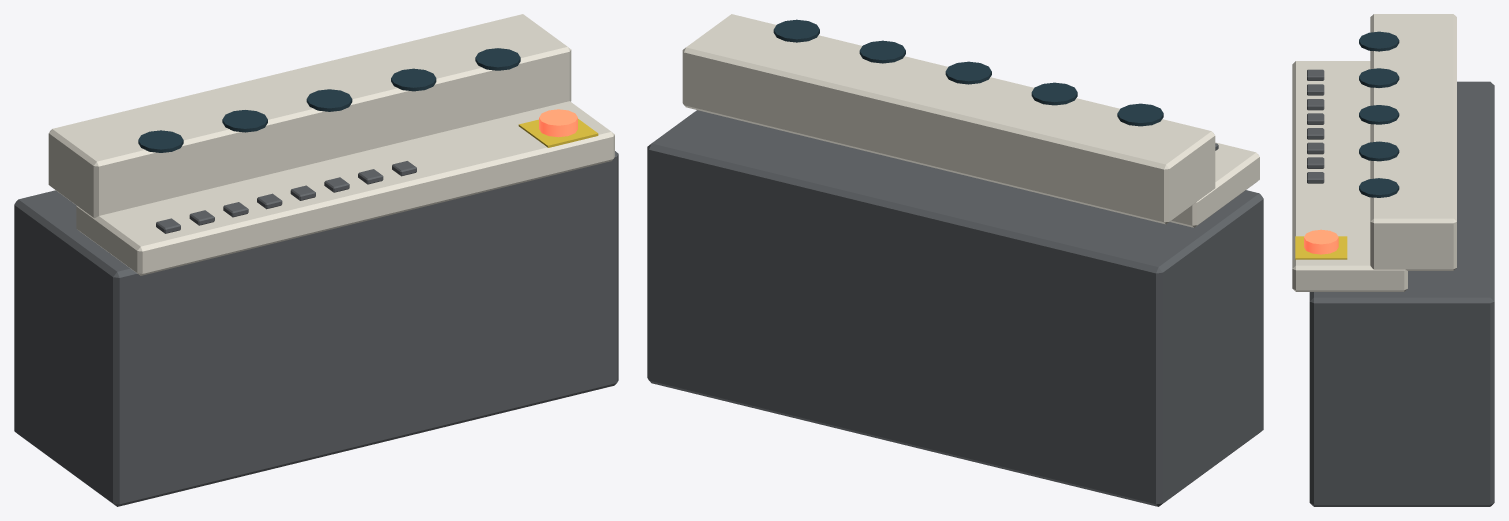
File: control_desk.glb
The picture shows the model from 3 angles, left to right: view 1: azimuth 30°, elevation 25°; view 2: azimuth 150°, elevation 25°; view 3: azimuth 270°, elevation 25°; orthographic projection. The views are drawn at different scales.
Visible parts, largest first — view 1: control_desk; view 2: control_desk; view 3: control_desk.
Part boxes in pixels (box(x1,y1,x2,y2)): control_desk: box(14, 14, 618, 506); control_desk: box(647, 14, 1263, 506); control_desk: box(1292, 14, 1494, 506).
Size of the model in its own units: 1.8 by 1.09 by 0.7.
